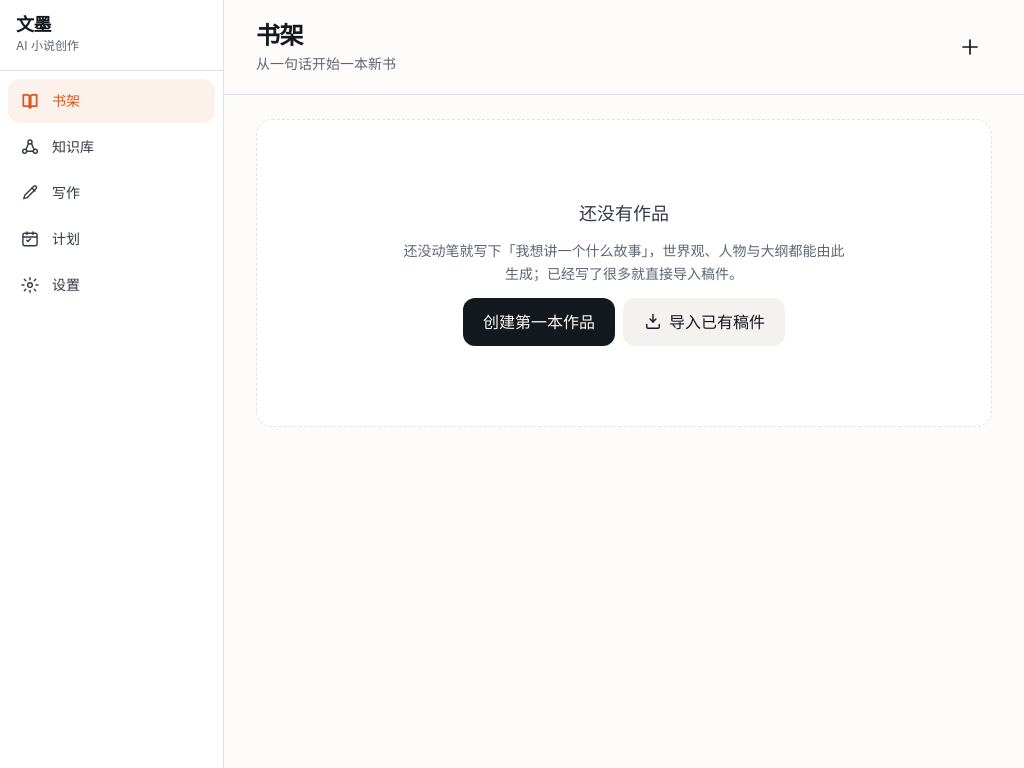
Test: AppShell › 点击「写作」切换到对应页面
Click the link "写作": (50, 193) x1=20 y1=183 x2=80 y2=203
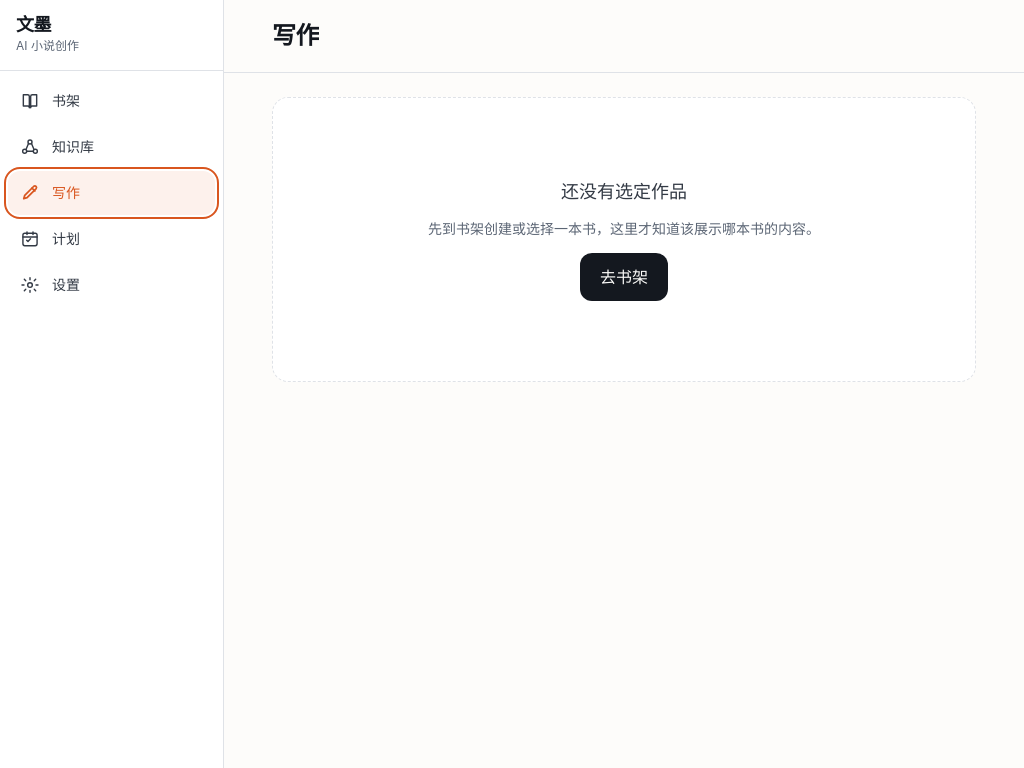
Result: the heading "写作" is shown at x1=272 y1=20 x2=319 y2=52
